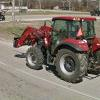Tractor: (12, 15, 93, 86)
